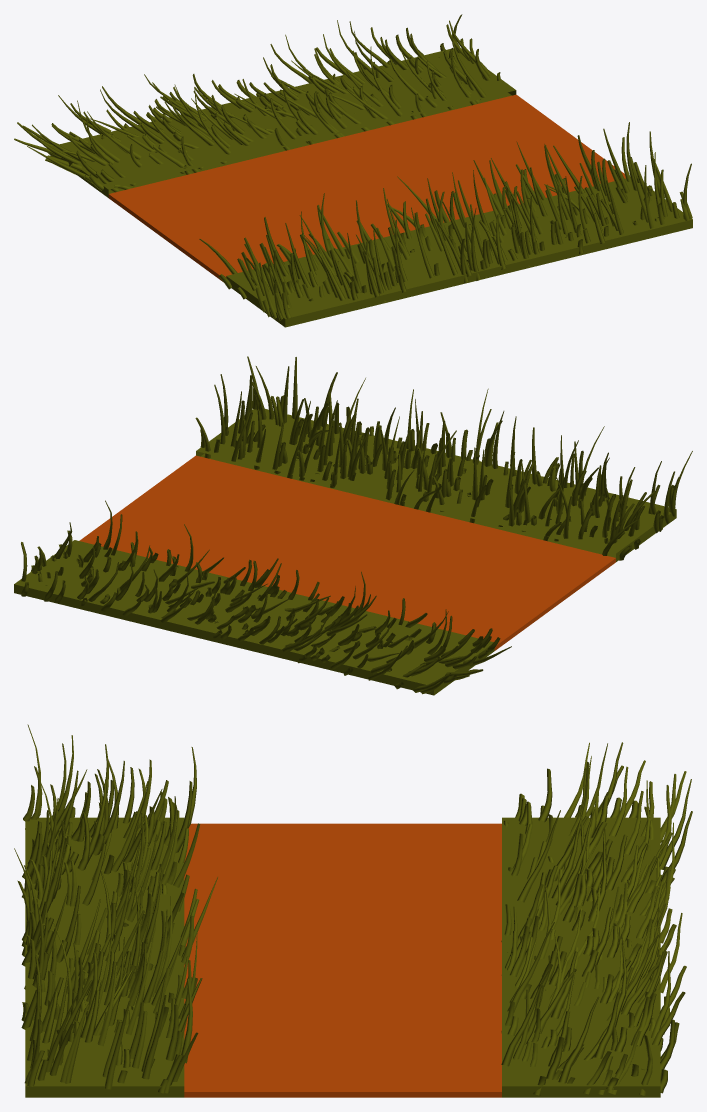
Rendered from SM_Tile Road.fbx.
3 views of the same model, one above another, from view 1: azimuth 30°, elevation 25°; view 2: azimuth 150°, elevation 25°; view 3: azimuth 270°, elevation 25° (orthographic). The views are drawn at different scales.
Parts seen in each view (by area): view 1: Box003; view 2: Box003; view 3: Box003.
Part boxes in pixels (<box>): Box003: <box>14,14,692,327</box>; Box003: <box>14,356,692,695</box>; Box003: <box>14,724,692,1097</box>.
Bounding box in the file's own units: 44.51 × 7.35 × 42.07.
